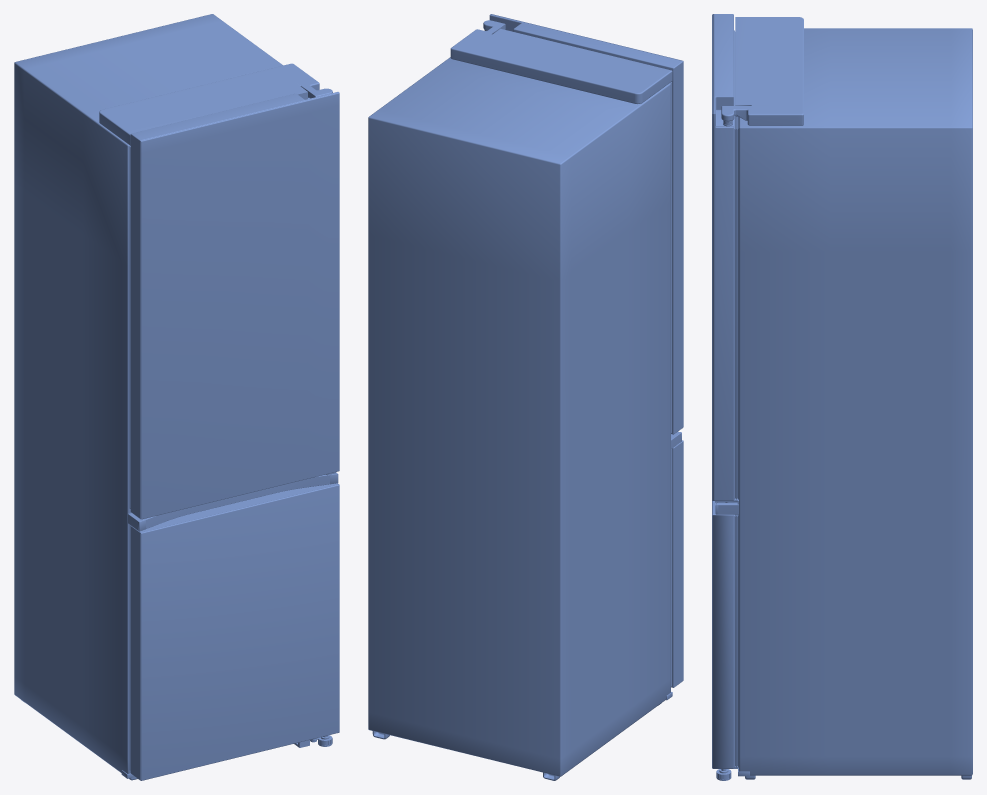
The model's file is bespoke_blue.glb.
3 renders of one model, left to right at view 1: azimuth 30°, elevation 25°; view 2: azimuth 150°, elevation 25°; view 3: azimuth 270°, elevation 25°, orthographic. The views are drawn at different scales.
Parts seen in each view (by area): view 1: Bespoke_Fridge_Freezer__Glass__in_Clean_White___Satin_Sky_B.; view 2: Bespoke_Fridge_Freezer__Glass__in_Clean_White___Satin_Sky_B.; view 3: Bespoke_Fridge_Freezer__Glass__in_Clean_White___Satin_Sky_B..
Part boxes in pixels (bbox=[...]): Bespoke_Fridge_Freezer__Glass__in_Clean_White___Satin_Sky_B.: bbox=[14, 14, 339, 780]; Bespoke_Fridge_Freezer__Glass__in_Clean_White___Satin_Sky_B.: bbox=[368, 14, 683, 780]; Bespoke_Fridge_Freezer__Glass__in_Clean_White___Satin_Sky_B.: bbox=[712, 14, 972, 780].
Bounding box in the file's own units: 5.43 × 16.88 × 5.96.
